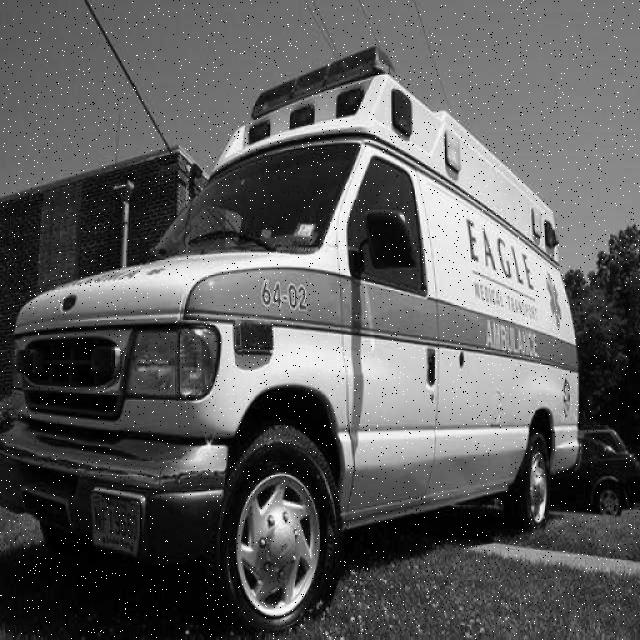Ambulance: (0, 47, 581, 634)
